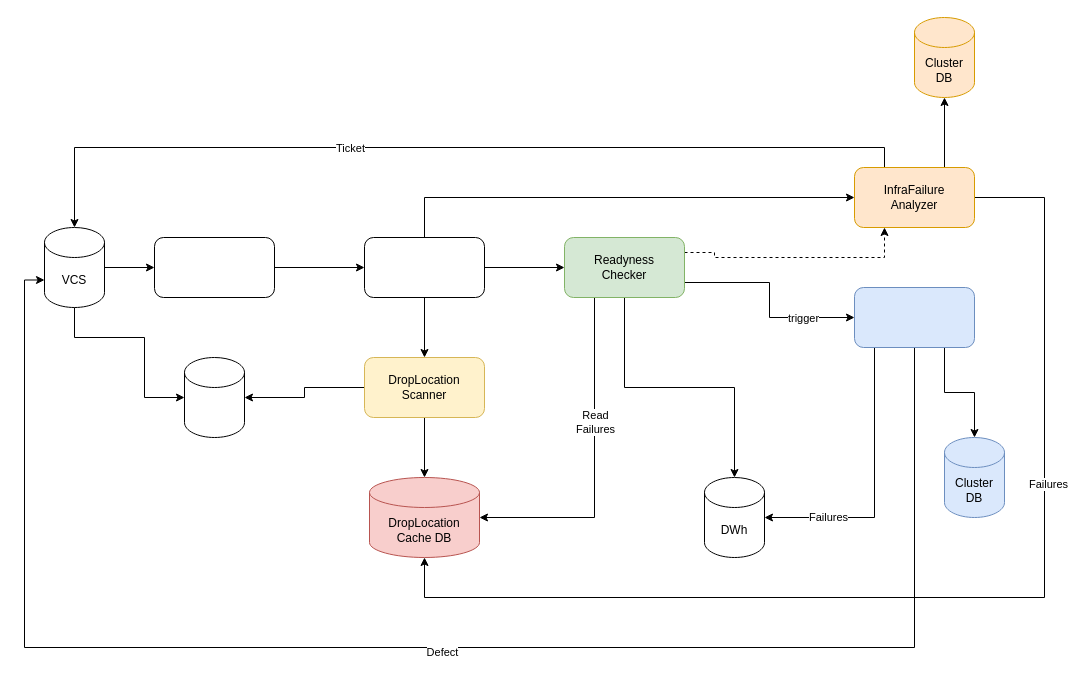
The diagram is 1085 pixels wide and 676 high, and some of its shapes have lost their labels. Each missing label, with the centre of its shape:
"Drop Location" belongs at point 214,397.
"JobCreator" belongs at point 214,267.
"Orchestrator" belongs at point 424,267.
"TestFailure Analyzer" belongs at point 914,317.
